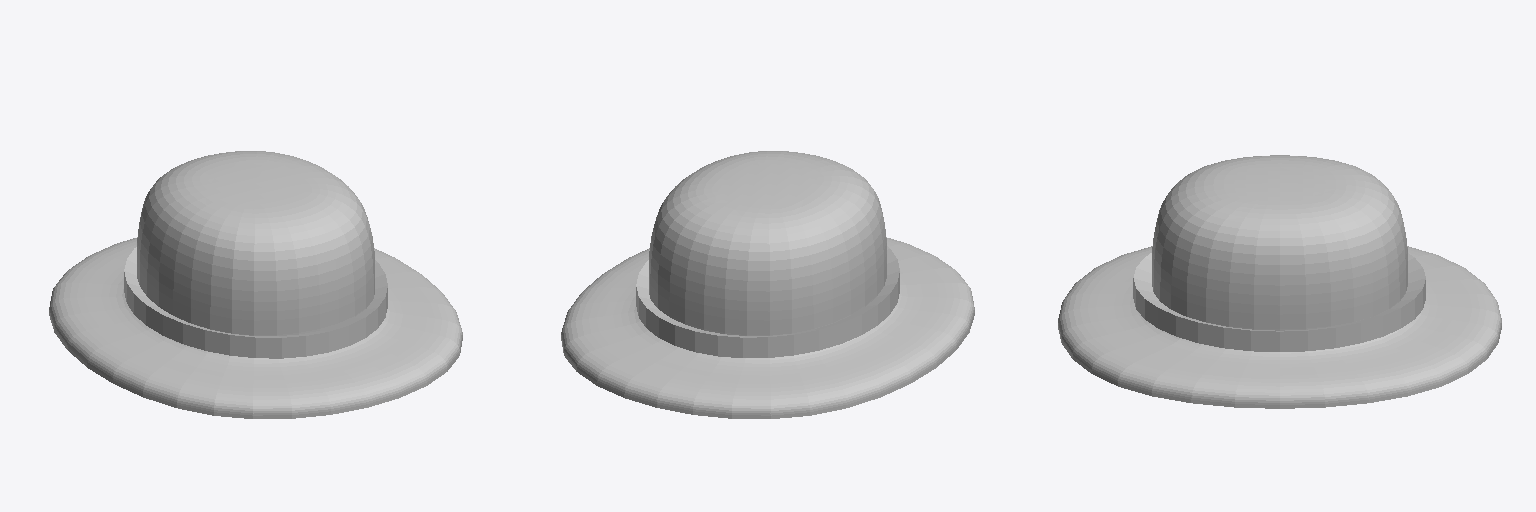
Rendered from hat1.obj.
3 renders of one model, left to right at view 1: azimuth 30°, elevation 25°; view 2: azimuth 150°, elevation 25°; view 3: azimuth 270°, elevation 25°, orthographic.
Visible parts, largest first — view 1: initialShadingGroup hat hat1, initialShadingGroup hat1 band; view 2: initialShadingGroup hat hat1, initialShadingGroup hat1 band; view 3: initialShadingGroup hat hat1, initialShadingGroup hat1 band.
Boxes of the visible parts, box(x1,y1,x2,y2) form: initialShadingGroup hat hat1: box(49, 151, 462, 418); initialShadingGroup hat1 band: box(124, 247, 387, 358); initialShadingGroup hat hat1: box(561, 151, 974, 418); initialShadingGroup hat1 band: box(636, 246, 899, 357); initialShadingGroup hat hat1: box(1058, 155, 1501, 408); initialShadingGroup hat1 band: box(1133, 253, 1425, 351).
Size of the model in its own units: 1.11 by 0.4576 by 1.27.